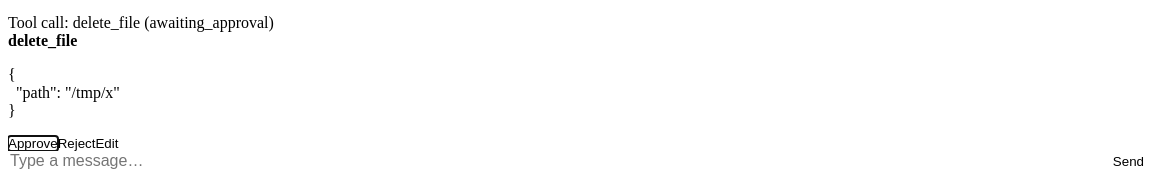
Scenario: ApprovalBar (via ChatWindow) › clicking Approve resolves the approval and removes the bar
Expected: the element with test id "approval" is shown, x1=8 y1=32 x2=120 y2=151
Click the button "Approve" at (33, 144), box x1=8 y1=136 x2=58 y2=151
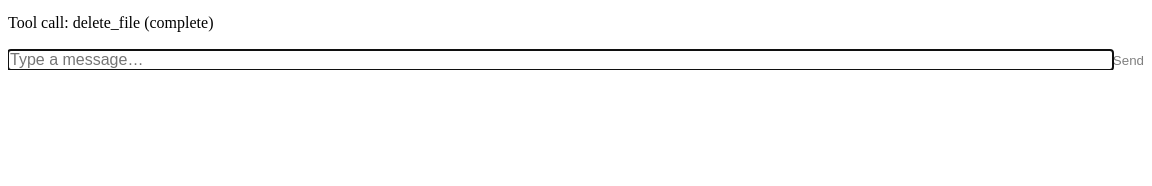
Expected: the element with test id "approval" is gone
